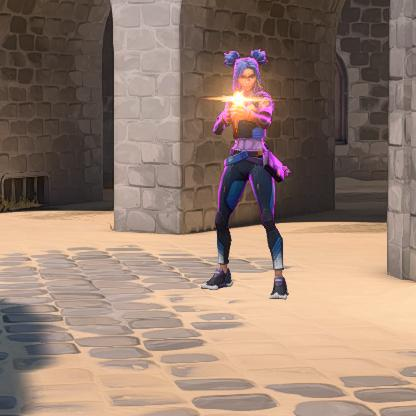enemyBody: (232, 98, 263, 145)
enemyHead: (237, 62, 257, 85)
